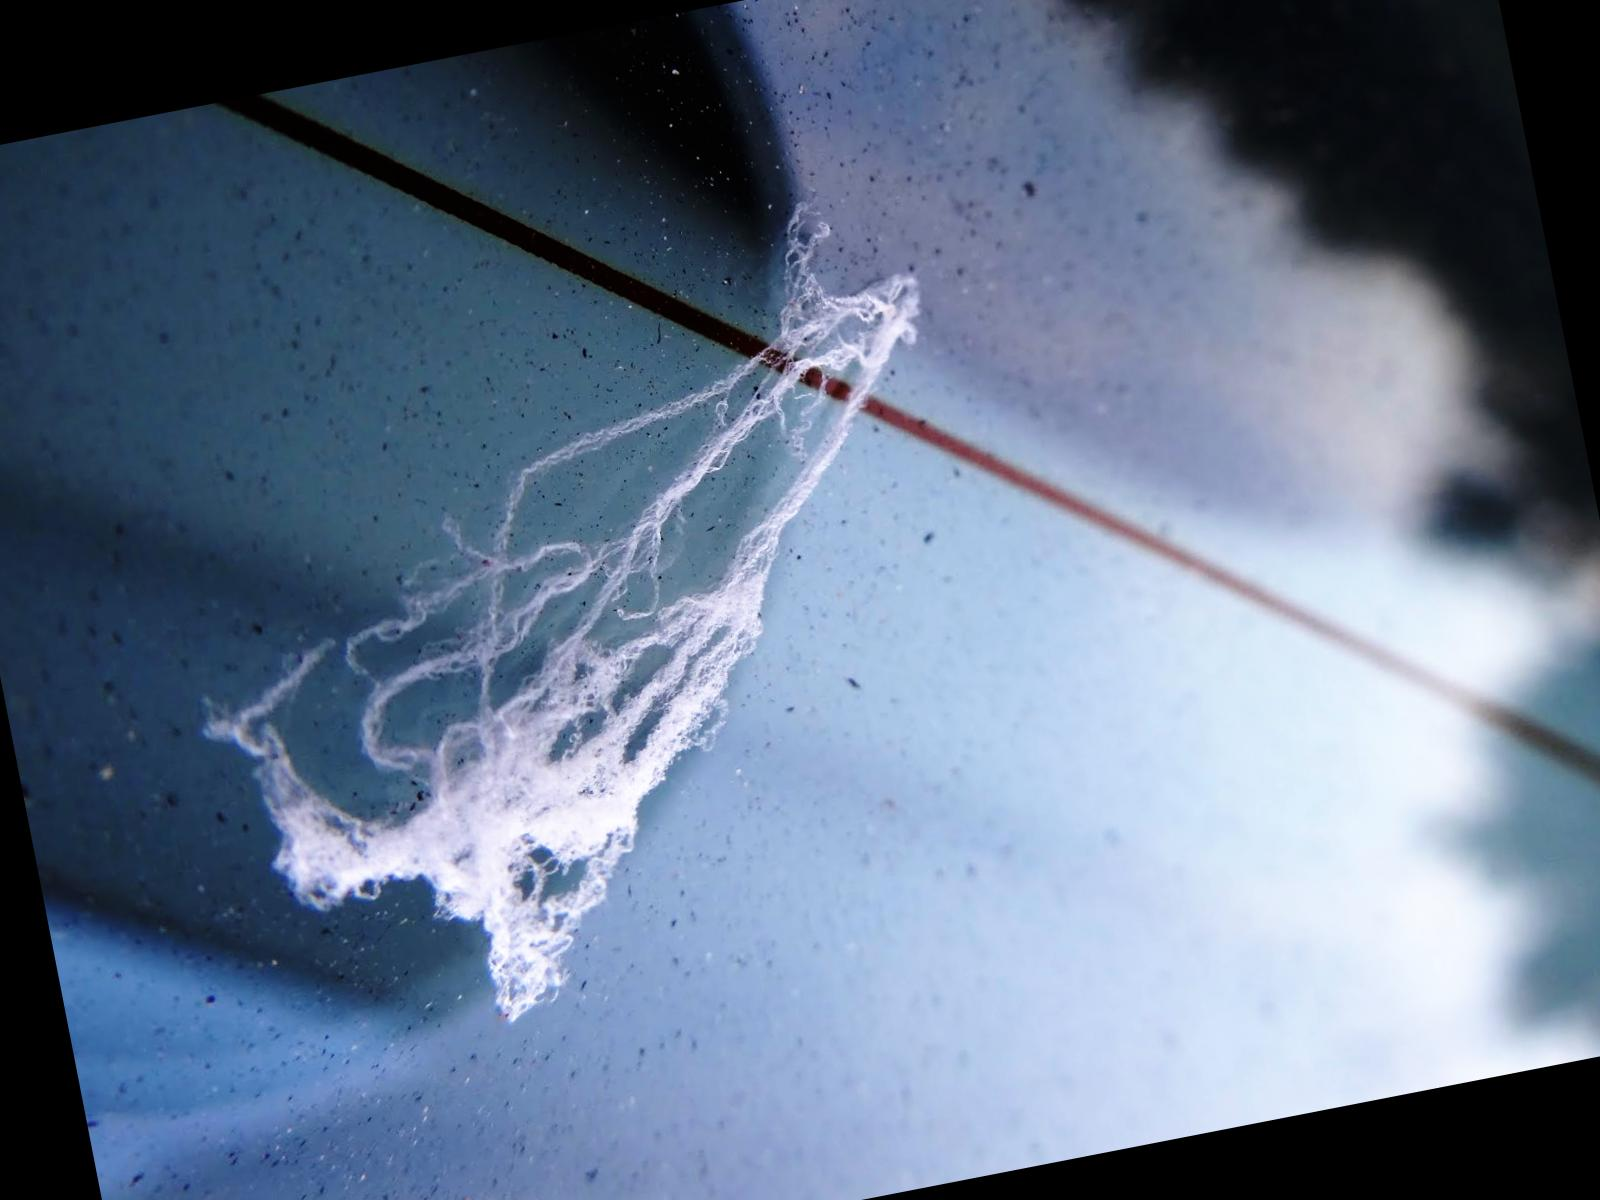Bird Poop: (208, 221, 916, 1017)
